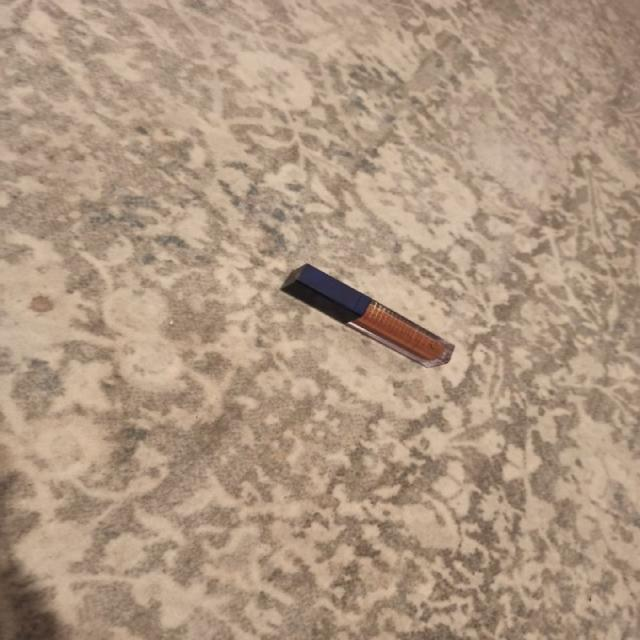lipstick: (279, 262, 455, 368)
